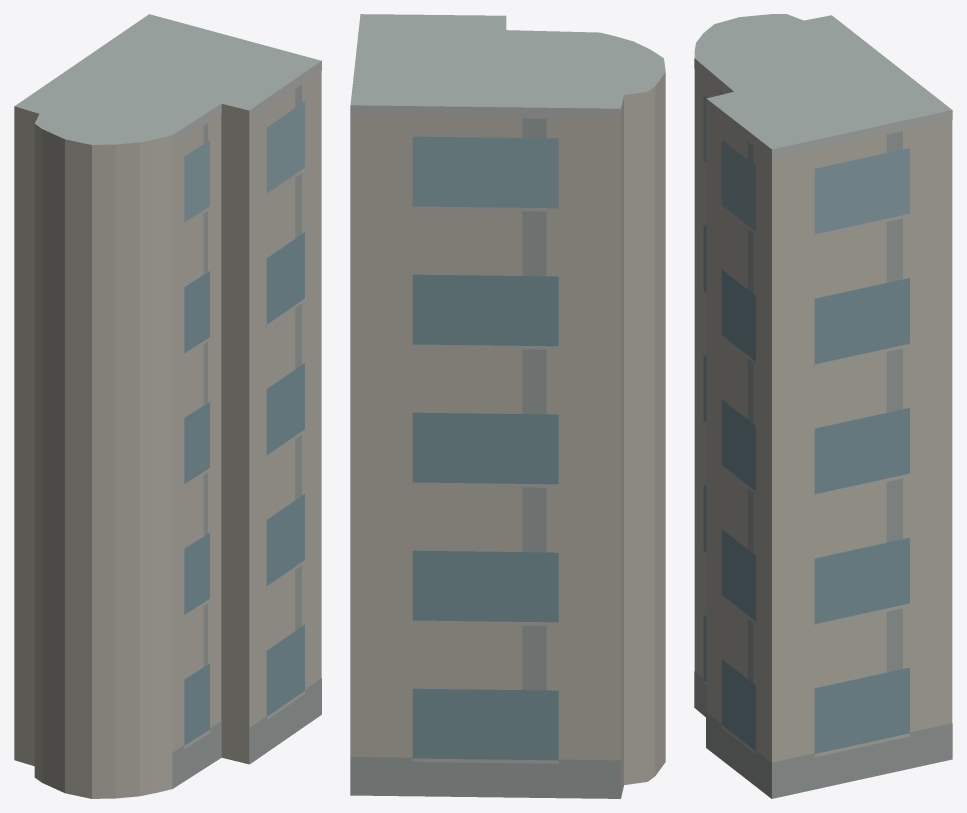
The model's file is survey-upis-32914089.glb.
3 renders of one model, left to right at view 1: azimuth 30°, elevation 25°; view 2: azimuth 150°, elevation 25°; view 3: azimuth 270°, elevation 25°, orthographic. The views are drawn at different scales.
Visible parts, largest first — view 1: survey-upis-32914089.tmp; view 2: survey-upis-32914089.tmp; view 3: survey-upis-32914089.tmp.
Part boxes in pixels (x1,y1,x2,y2): survey-upis-32914089.tmp: [14, 14, 321, 798]; survey-upis-32914089.tmp: [350, 14, 665, 798]; survey-upis-32914089.tmp: [694, 14, 952, 798].
Bounding box in the file's own units: 6.83 × 15.25 × 5.5.
